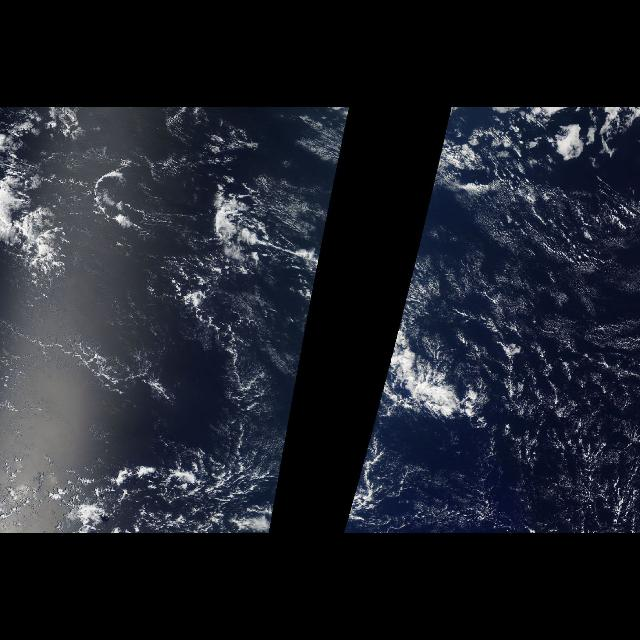Gravel: (475, 284, 639, 534)
Sugar: (427, 209, 639, 533)
